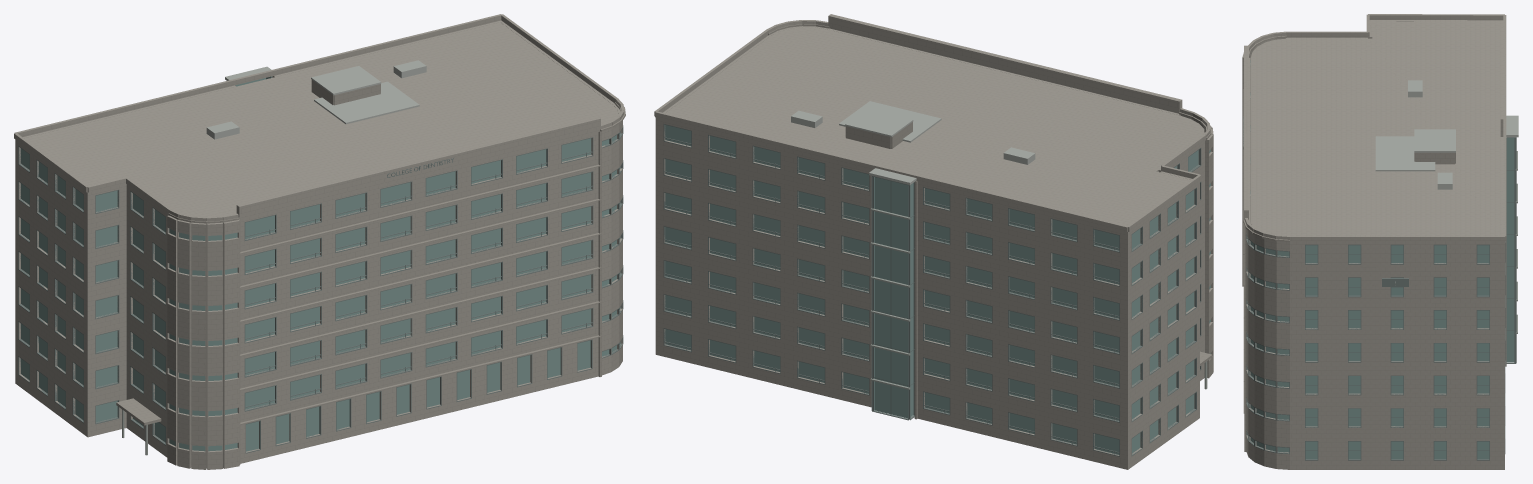
3 renders of one model, left to right at view 1: azimuth 30°, elevation 25°; view 2: azimuth 150°, elevation 25°; view 3: azimuth 270°, elevation 25°, orthographic. The views are drawn at different scales.
Parts seen in each view (by area): view 1: dentistry__stone, dentistry__glass, dentistry__frame, dentistry__cream, dentistry__roof; view 2: dentistry__stone, dentistry__glass, dentistry__frame, dentistry__roof, dentistry__cream, dentistry__light; view 3: dentistry__stone, dentistry__glass, dentistry__frame, dentistry__roof, dentistry__cream.
Part boxes in pixels (x1,y1,x2,y2): dentistry__stone: [14, 14, 624, 469]; dentistry__glass: [21, 76, 620, 451]; dentistry__frame: [18, 76, 623, 453]; dentistry__cream: [116, 80, 625, 464]; dentistry__roof: [206, 60, 426, 139]; dentistry__stone: [654, 14, 1213, 469]; dentistry__glass: [665, 125, 1210, 454]; dentistry__frame: [663, 124, 1201, 456]; dentistry__roof: [791, 101, 1035, 184]; dentistry__cream: [768, 24, 1212, 365]; dentistry__light: [870, 208, 1207, 389]; dentistry__stone: [1242, 14, 1506, 469]; dentistry__glass: [1250, 60, 1514, 459]; dentistry__frame: [1246, 63, 1516, 460]; dentistry__roof: [1375, 80, 1518, 189]; dentistry__cream: [1243, 35, 1455, 451].
Size of the model in its own units: 53.59 by 26.86 by 27.81.
Materials: 6 (2 with a texture image).
